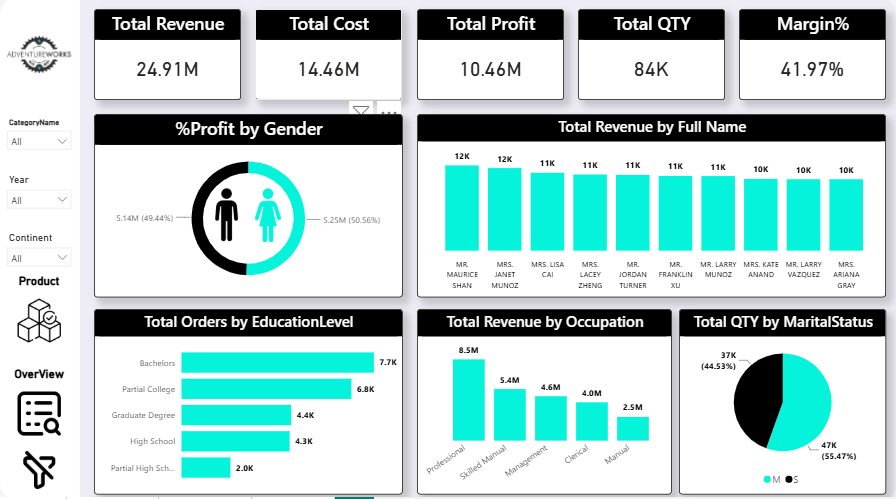

What the dashboard file says about the page in this screenshot:
{"tool":"powerbi","page":{"name":"Customer","canvas":[1280,720],"ordinal":2},"visuals":[{"type":"card","title":"Total Revenue","fields":{"Values":["Calculation.Total Revenue"]},"box":[134.6,14.2,209.8,130.4],"z":0},{"type":"donutChart","title":"%Profit by Gender","fields":{"Category":["Dim_Customer.Gender"],"Y":["Calculation.Profit"]},"box":[134.6,164.4,440.8,262.2],"z":0,"group":"g1"},{"type":"card","title":"Total Cost","fields":{"Values":["Calculation.Total Cost"]},"box":[365,14.2,209.8,130.4],"z":1000},{"type":"image","box":[276,256.9,96.1,101.3],"z":1000,"group":"g1"},{"type":"card","title":"Total Profit","fields":{"Values":["Calculation.Profit"]},"box":[595.3,14.2,209.8,130.4],"z":2000},{"type":"image","box":[324.1,260.7,116.7,97.5],"z":2000,"group":"g1"},{"type":"card","title":"Total QTY","fields":{"Values":["Calculation.Total QTY"]},"box":[825.6,14.2,209.8,130.4],"z":3000},{"type":"card","title":"Margin%","fields":{"Values":["Calculation.Margin Profit"]},"box":[1055.9,14.2,209.8,130.4],"z":4000},{"type":"slicer","fields":{"Values":["Dim_Product.CategoryName"]},"box":[0,164.4,112,65.2],"z":5000},{"type":"slicer","fields":{"Values":["Dim_Calendar.Date.Variation.Date Hierarchy.Year"]},"box":[0,243.8,112,65.2],"z":6000},{"type":"slicer","fields":{"Values":["Dim_Territory.Continent"]},"box":[0,327.4,112,65.2],"z":7000},{"type":"image","box":[0,14.2,112,130.4],"z":8000},{"type":"image","title":"Product","box":[0,392.6,112,97.8],"z":9000},{"type":"image","title":"Product","box":[5.7,646.3,100.6,60.9],"z":10000},{"type":"image","title":"OverView","box":[0,525.8,112,97.8],"z":11000},{"type":"group","id":"g1","title":"Group 1","box":[134.6,164.4,440.8,262.2],"z":12000},{"type":"columnChart","fields":{"Category":["Dim_Customer.Full Name"],"Y":["Calculation.Total Revenue"]},"box":[595.3,164.4,670.4,262.2],"z":13000},{"type":"barChart","fields":{"Category":["Dim_Customer.EducationLevel"],"Y":["Calculation.Total Orders"]},"box":[134.6,442.2,440.8,265],"z":14000},{"type":"columnChart","fields":{"Category":["Dim_Customer.Occupation"],"Y":["Calculation.Total Revenue"]},"box":[595.3,442.2,364.3,265],"z":15000},{"type":"pieChart","fields":{"Category":["Dim_Customer.MaritalStatus"],"Y":["Calculation.Total QTY"]},"box":[969.4,442.2,296.2,265],"z":16000}]}

Visuals, with their boxes on the page's 1280x720 design canvas (x1, y1, x2, y2). These are canvas units, not pixel positions in the 896x499 screenshot, which may show the page scaled, cropped or inside an application window:
"Total Revenue" card: locate(135, 14, 344, 145)
"%Profit by Gender" donutChart: locate(135, 164, 575, 427)
"Total Cost" card: locate(365, 14, 575, 145)
image: locate(276, 257, 372, 358)
"Total Profit" card: locate(595, 14, 805, 145)
image: locate(324, 261, 441, 358)
"Total QTY" card: locate(826, 14, 1035, 145)
"Margin%" card: locate(1056, 14, 1266, 145)
slicer - Dim_Product.CategoryName: locate(0, 164, 112, 230)
slicer - Dim_Calendar.Date.Variation.Date Hierarchy.Year: locate(0, 244, 112, 309)
slicer - Dim_Territory.Continent: locate(0, 327, 112, 393)
image: locate(0, 14, 112, 145)
"Product" image: locate(0, 393, 112, 490)
"Product" image: locate(6, 646, 106, 707)
"OverView" image: locate(0, 526, 112, 624)
"Group 1" group: locate(135, 164, 575, 427)
columnChart - Dim_Customer.Full Name x Calculation.Total Revenue: locate(595, 164, 1266, 427)
barChart - Dim_Customer.EducationLevel x Calculation.Total Orders: locate(135, 442, 575, 707)
columnChart - Dim_Customer.Occupation x Calculation.Total Revenue: locate(595, 442, 960, 707)
pieChart - Dim_Customer.MaritalStatus x Calculation.Total QTY: locate(969, 442, 1266, 707)
